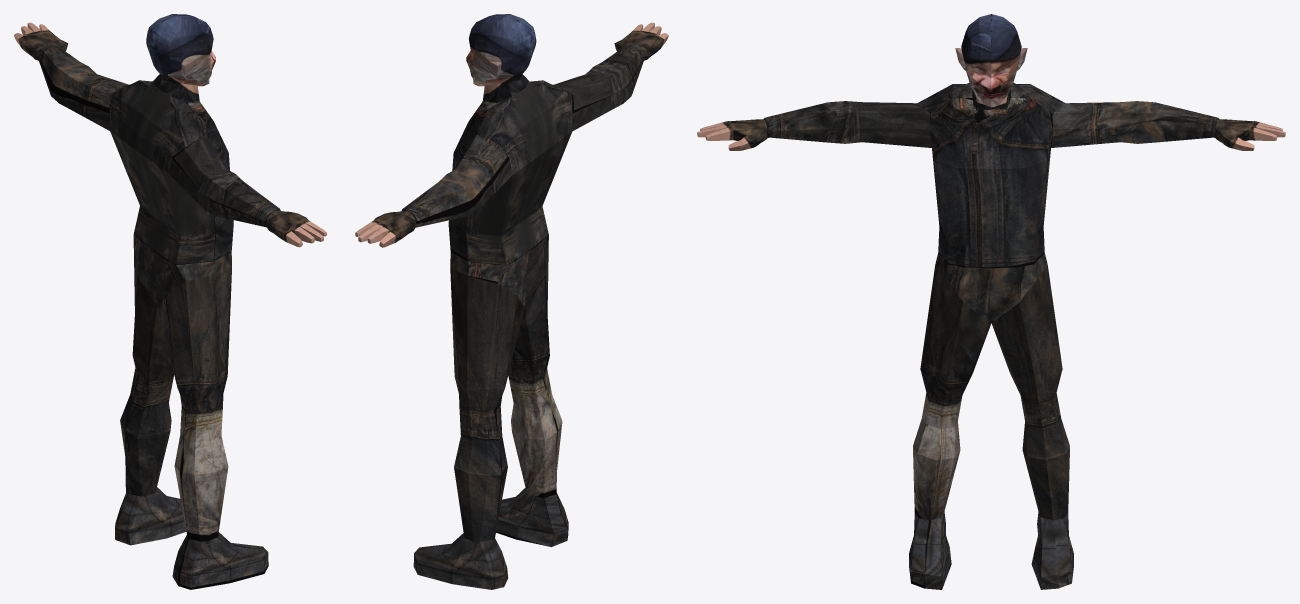
The model's file is 455ени.fbx.
3 renders of one model, left to right at view 1: azimuth 30°, elevation 25°; view 2: azimuth 150°, elevation 25°; view 3: azimuth 270°, elevation 25°, orthographic.
Visible parts, largest first — view 1: Куб.001; view 2: Куб.001; view 3: Куб.001.
Part boxes in pixels (bbox=[...]): Куб.001: bbox=[14, 14, 326, 589]; Куб.001: bbox=[355, 14, 668, 589]; Куб.001: bbox=[697, 14, 1285, 589].
Size of the model in its own units: 166 by 801 by 789.
Materials: 1 (1 with a texture image).
